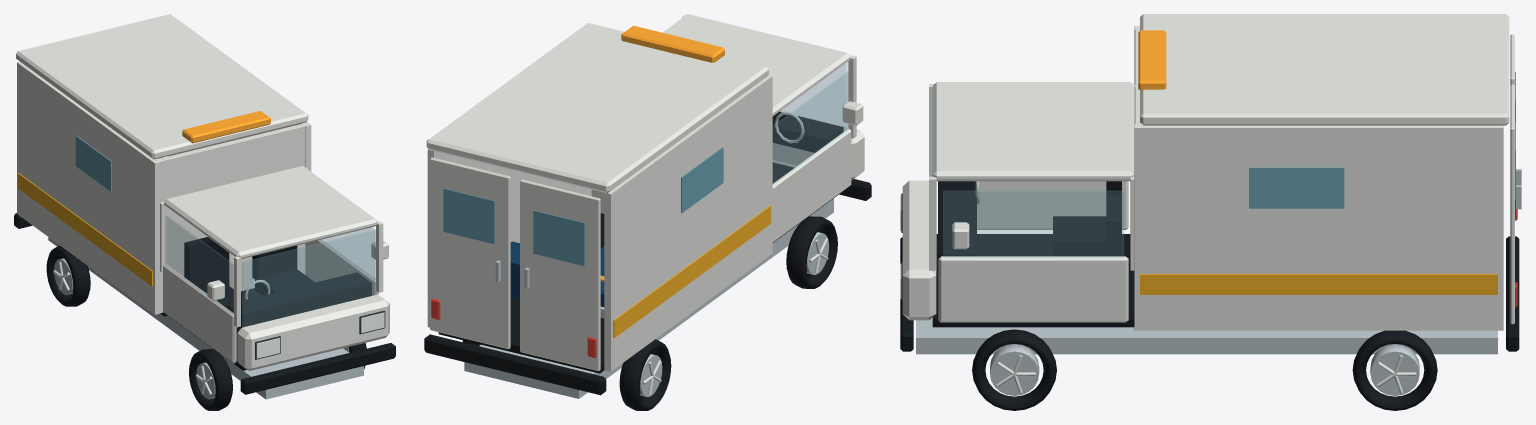
File: sg-ambulance-hd.glb
3 renders of one model, left to right at view 1: azimuth 30°, elevation 25°; view 2: azimuth 150°, elevation 25°; view 3: azimuth 270°, elevation 25°, orthographic. The views are drawn at different scales.
Visible parts, largest first — view 1: body, wheel_FL, wheel_RL; view 2: body, wheel_FL, wheel_RL; view 3: body, wheel_FR, wheel_RR.
Part boxes in pixels (x1,y1,x2,y2): body: (14,14,395,399); wheel_FL: (189,349,232,410); wheel_RL: (46,245,90,306); body: (424,14,871,398); wheel_FL: (786,216,837,288); wheel_RL: (619,339,671,410); body: (900,14,1521,354); wheel_FR: (972,329,1056,410); wheel_RR: (1352,330,1437,410).
Size of the model in its own units: 2.44 by 3.05 by 5.55.
